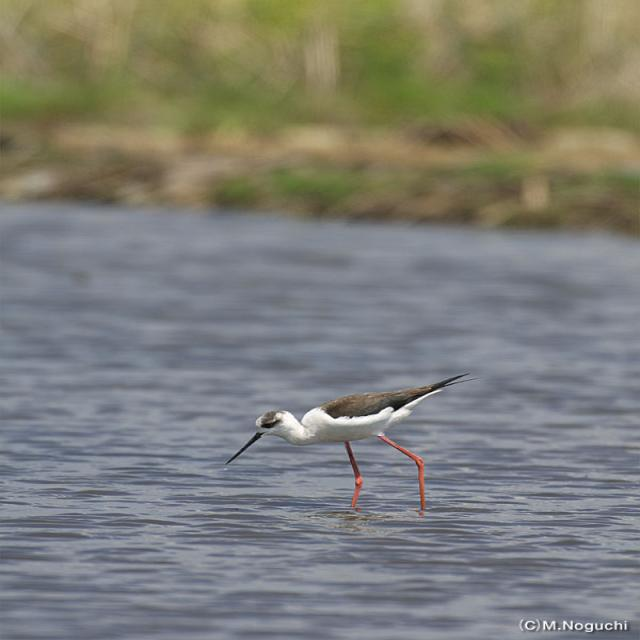bird: (230, 367, 472, 518)
